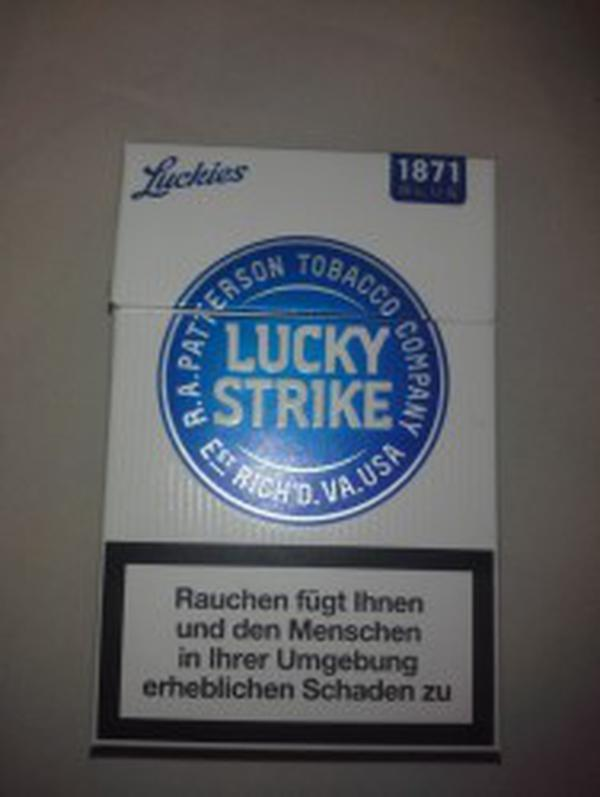lucky_strike_blue: (119, 153, 492, 744)
